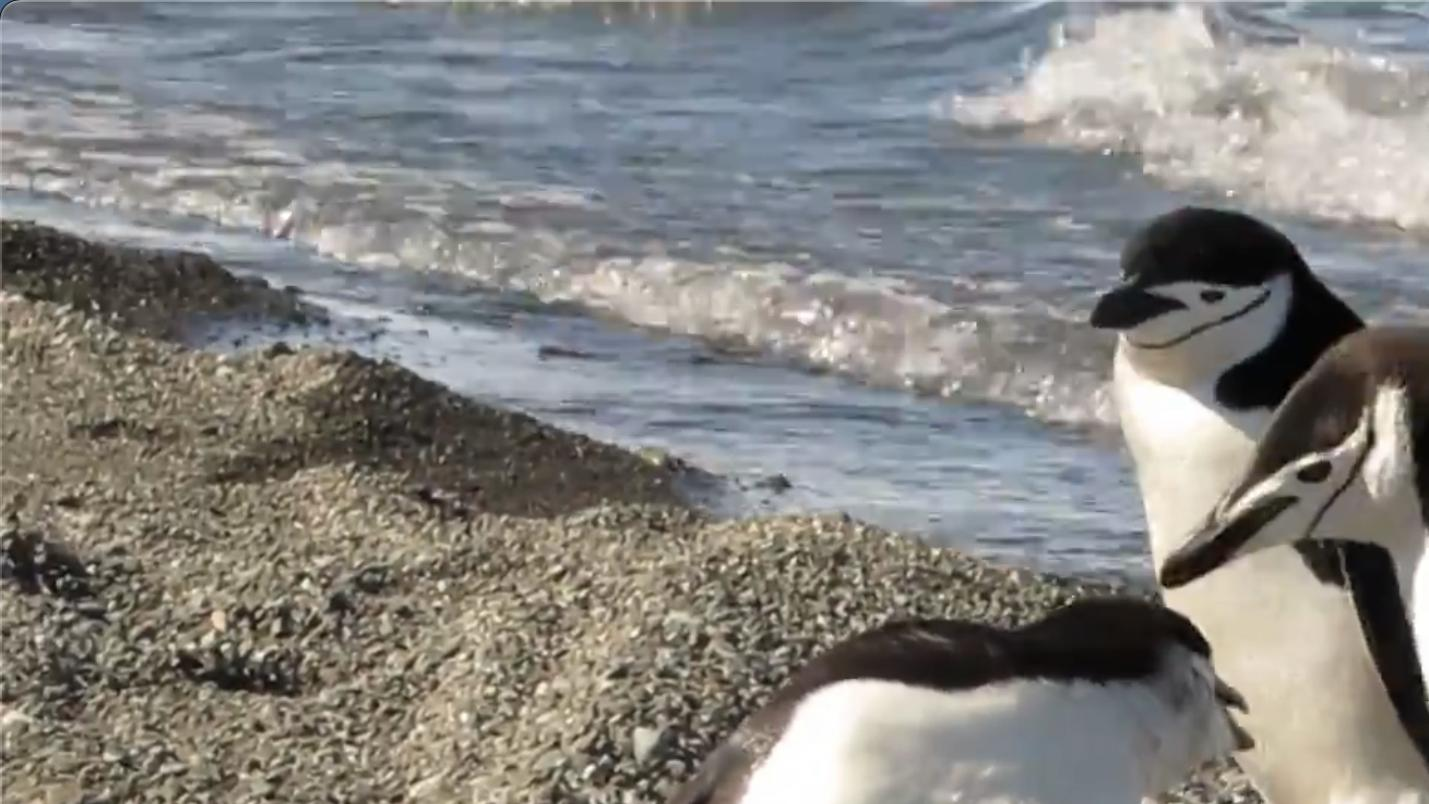Chinstrap Penguin: (480, 559, 1263, 804), (1151, 305, 1429, 804), (1042, 180, 1342, 396)
